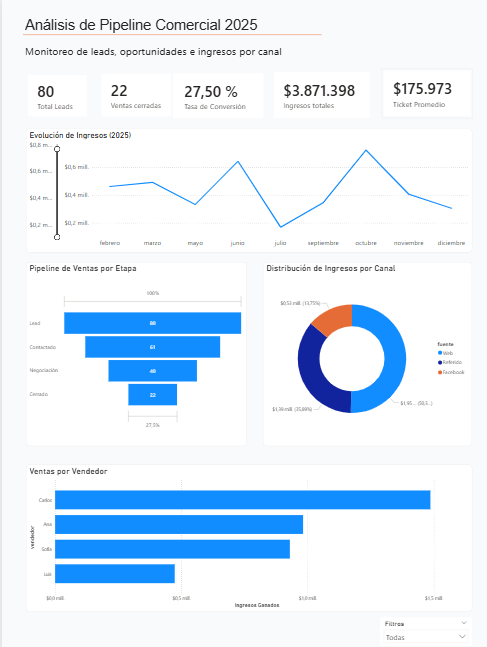

Layout of this report page (visuals, bound fields, positions):
{"tool":"powerbi","page":{"name":"Página 1","canvas":[1280,1700],"ordinal":0},"visuals":[{"type":"funnel","title":"Pipeline de Ventas por Etapa","fields":{"Category":["Dim_Etapa.etapa"],"Y":["CRM_Data.Clientes Funnel"]},"box":[62,684,566,472],"z":0},{"type":"cardVisual","fields":{"Data":["CRM_Data.Total Leads"]},"box":[62,200,160,116],"z":1000},{"type":"cardVisual","fields":{"Data":["CRM_Data.Oportunidades Cerradas"]},"box":[250,198,188,120],"z":2000},{"type":"cardVisual","fields":{"Data":["CRM_Data.Tasa de Conversión"]},"box":[438,200,232,116],"z":3000},{"type":"cardVisual","fields":{"Data":["CRM_Data.Ingresos Ganados"]},"box":[692,194,256,128],"z":4000},{"type":"cardVisual","fields":{"Data":["CRM_Data.Ticket Promedio"]},"box":[972,188,234,128],"z":5000},{"type":"donutChart","title":"Distribución de Ingresos por Canal","fields":{"Y":["CRM_Data.Ingresos Ganados"],"Category":["CRM_Data.fuente"]},"box":[670,684,536,472],"z":6000},{"type":"barChart","title":"Ventas por Vendedor","fields":{"Category":["CRM_Data.vendedor"],"Y":["CRM_Data.Ingresos Ganados"]},"box":[62,1202,1144,378],"z":7000},{"type":"lineChart","title":"Evolución de Ingresos (2025)","fields":{"Category":["CRM_Data.fecha_creacion.Variación.Jerarquía de fechas.Mes","CRM_Data.fecha_creacion.Variación.Jerarquía de fechas.Día"],"Y":["CRM_Data.Ingresos Ganados"]},"box":[62,344,1144,318],"z":8000},{"type":"slicer","fields":{"Values":["CRM_Data.fuente","CRM_Data.vendedor","CRM_Data.etapa","CRM_Data.fecha_creacion"]},"box":[970,1598,236,72],"z":9000},{"type":"textbox","box":[54,49.3,820,54],"z":10000},{"type":"textbox","box":[54,118,688,82],"z":11000},{"type":"shape","box":[54,86,766,34],"z":12000}]}

Visuals, with their boxes in screenshot pixels (x1, y1, x2, y2), scaled from the page's 1280x1700 canvas onto the 487x647 screenshot:
"Pipeline de Ventas por Etapa" funnel: box=[24, 260, 239, 440]
cardVisual - CRM_Data.Total Leads: box=[24, 76, 84, 120]
cardVisual - CRM_Data.Oportunidades Cerradas: box=[95, 75, 167, 121]
cardVisual - CRM_Data.Tasa de Conversión: box=[167, 76, 255, 120]
cardVisual - CRM_Data.Ingresos Ganados: box=[263, 74, 361, 123]
cardVisual - CRM_Data.Ticket Promedio: box=[370, 72, 459, 120]
"Distribución de Ingresos por Canal" donutChart: box=[255, 260, 459, 440]
"Ventas por Vendedor" barChart: box=[24, 457, 459, 601]
"Evolución de Ingresos (2025)" lineChart: box=[24, 131, 459, 252]
slicer - CRM_Data.fuente x CRM_Data.vendedor: box=[369, 608, 459, 636]
textbox: box=[21, 19, 333, 39]
textbox: box=[21, 45, 282, 76]
shape: box=[21, 33, 312, 46]
